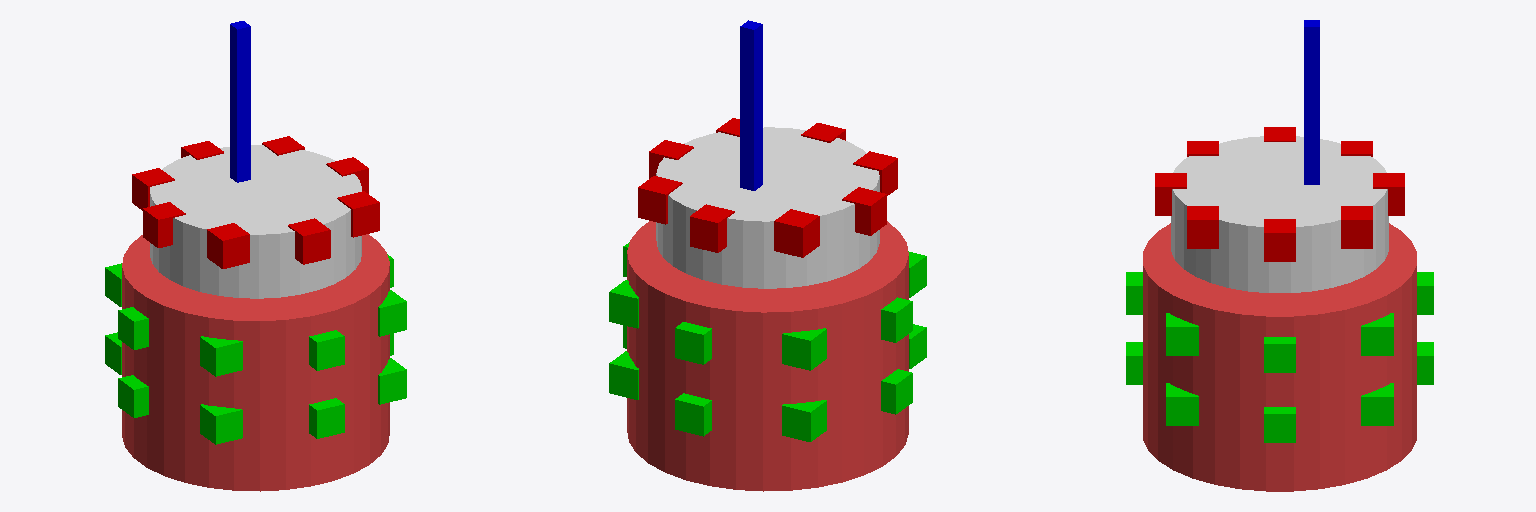
The robot description file, URDF, robot "random_bottle":
<?xml version="1.0"?>
<robot name="random_bottle">

  <!-- Define the cap link -->
  <link name="link1">
    <visual>
      <geometry>
        <mesh filename="cap.obj" scale="1.0 1.0 1.0"/>
      </geometry>
       <material name="white">
        <color rgba=".9 .9 .9 1"/>
      </material>

    </visual>
    <collision>
      <geometry>
        <mesh filename="cap.obj" scale="1.0 1.0 1.0"/>
      </geometry>
    </collision>

    <inertial>
      <mass value="0.014562240797476336"/> <!-- You can adjust the mass as needed -->
      <origin rpy="0 0 0" xyz="0 0 0"/>
      <inertia ixx="4.756870157828276e-06" ixy="0.0" ixz="0.0" iyy="4.756870157828276e-06" iyz="0.0" izz="8.2947460744877e-06"/>
    </inertial>
  </link>

    <link name="l10">
    <visual>
      <geometry>
        <box size="0.01 0.01 0.01"/>
      </geometry>

      <material name="red">
        <color rgba="0.9 0.0 0.0 1"/>
      </material>

    </visual>

    <inertial>
      <mass value="0.0001"/> <!-- You can adjust the mass as needed -->
      <origin rpy="0 0 0" xyz="0 0 -0.00"/> <!-- Offset by half of link1's height + 0.03m for the margin -->
      <inertia ixx="0.000000003" ixy="0.0" ixz="0.0" iyy="0.0000003" iyz="0.0" izz="0.00000003"/>
    </inertial>

  </link>
  <link name="l11">
    <visual>
      <geometry>
        <box size="0.01 0.01 0.01"/>
      </geometry>

      <material name="red">
        <color rgba="0.9 0.0 0.0 1"/>
      </material>

    </visual>

    <inertial>
      <mass value="0.0001"/> <!-- You can adjust the mass as needed -->
      <origin rpy="0 0 0" xyz="0 0 -0.00"/> <!-- Offset by half of link1's height + 0.03m for the margin -->
      <inertia ixx="0.000000003" ixy="0.0" ixz="0.0" iyy="0.0000003" iyz="0.0" izz="0.00000003"/>
    </inertial>

  </link>
  <link name="l12">
    <visual>
      <geometry>
        <box size="0.01 0.01 0.01"/>
      </geometry>

      <material name="red">
        <color rgba="0.9 0.0 0.0 1"/>
      </material>

    </visual>

    <inertial>
      <mass value="0.0001"/> <!-- You can adjust the mass as needed -->
      <origin rpy="0 0 0" xyz="0 0 -0.00"/> <!-- Offset by half of link1's height + 0.03m for the margin -->
      <inertia ixx="0.000000003" ixy="0.0" ixz="0.0" iyy="0.0000003" iyz="0.0" izz="0.00000003"/>
    </inertial>

  </link>
  <link name="l13">
    <visual>
      <geometry>
        <box size="0.01 0.01 0.01"/>
      </geometry>

      <material name="red">
        <color rgba="0.9 0.0 0.0 1"/>
      </material>

    </visual>

    <inertial>
      <mass value="0.0001"/> <!-- You can adjust the mass as needed -->
      <origin rpy="0 0 0" xyz="0 0 -0.00"/> <!-- Offset by half of link1's height + 0.03m for the margin -->
      <inertia ixx="0.000000003" ixy="0.0" ixz="0.0" iyy="0.0000003" iyz="0.0" izz="0.00000003"/>
    </inertial>

  </link>
  <link name="l10b">
    <visual>
      <geometry>
        <box size="0.01 0.01 0.01"/>
      </geometry>

      <material name="red">
        <color rgba="0.9 0.0 0.0 1"/>
      </material>

    </visual>

    <inertial>
      <mass value="0.0001"/> <!-- You can adjust the mass as needed -->
      <origin rpy="0 0 0" xyz="0 0 -0.00"/> <!-- Offset by half of link1's height + 0.03m for the margin -->
      <inertia ixx="0.000000003" ixy="0.0" ixz="0.0" iyy="0.0000003" iyz="0.0" izz="0.00000003"/>
    </inertial>

  </link>
  <link name="l11b">
    <visual>
      <geometry>
        <box size="0.01 0.01 0.01"/>
      </geometry>

      <material name="red">
        <color rgba="0.9 0.0 0.0 1"/>
      </material>

    </visual>

    <inertial>
      <mass value="0.0001"/> <!-- You can adjust the mass as needed -->
      <origin rpy="0 0 0" xyz="0 0 -0.00"/> <!-- Offset by half of link1's height + 0.03m for the margin -->
      <inertia ixx="0.000000003" ixy="0.0" ixz="0.0" iyy="0.0000003" iyz="0.0" izz="0.00000003"/>
    </inertial>

  </link>
  <link name="l12b">
    <visual>
      <geometry>
        <box size="0.01 0.01 0.01"/>
      </geometry>

      <material name="red">
        <color rgba="0.9 0.0 0.0 1"/>
      </material>

    </visual>

    <inertial>
      <mass value="0.0001"/> <!-- You can adjust the mass as needed -->
      <origin rpy="0 0 0" xyz="0 0 -0.00"/> <!-- Offset by half of link1's height + 0.03m for the margin -->
      <inertia ixx="0.000000003" ixy="0.0" ixz="0.0" iyy="0.0000003" iyz="0.0" izz="0.00000003"/>
    </inertial>

  </link>
  <link name="l13b">
    <visual>
      <geometry>
        <box size="0.01 0.01 0.01"/>
      </geometry>

      <material name="red">
        <color rgba="0.9 0.0 0.0 1"/>
      </material>

    </visual>

    <inertial>
      <mass value="0.0001"/> <!-- You can adjust the mass as needed -->
      <origin rpy="0 0 0" xyz="0 0 -0.00"/> <!-- Offset by half of link1's height + 0.03m for the margin -->
      <inertia ixx="0.000000003" ixy="0.0" ixz="0.0" iyy="0.0000003" iyz="0.0" izz="0.00000003"/>
    </inertial>

  </link>
  <link name="l20">
    <visual>
      <geometry>
        <box size="0.01 0.01 0.01"/>
      </geometry>

      <material name="red">
        <color rgba="0.0 0.9 0.0 1"/>
      </material>

    </visual>

    <inertial>
      <mass value="0.0001"/> <!-- You can adjust the mass as needed -->
      <origin rpy="0 0 0" xyz="0 0 -0.00"/> <!-- Offset by half of link1's height + 0.03m for the margin -->
      <inertia ixx="0.000000003" ixy="0.0" ixz="0.0" iyy="0.0000003" iyz="0.0" izz="0.00000003"/>
    </inertial>

  </link>
  <link name="l21">
    <visual>
      <geometry>
        <box size="0.01 0.01 0.01"/>
      </geometry>

      <material name="red">
        <color rgba="0.0 0.9 0.0 1"/>
      </material>

    </visual>

    <inertial>
      <mass value="0.0001"/> <!-- You can adjust the mass as needed -->
      <origin rpy="0 0 0" xyz="0 0 -0.00"/> <!-- Offset by half of link1's height + 0.03m for the margin -->
      <inertia ixx="0.000000003" ixy="0.0" ixz="0.0" iyy="0.0000003" iyz="0.0" izz="0.00000003"/>
    </inertial>

  </link>
  <link name="l22">
    <visual>
      <geometry>
        <box size="0.01 0.01 0.01"/>
      </geometry>

      <material name="red">
        <color rgba="0.0 0.9 0.0 1"/>
      </material>

    </visual>

    <inertial>
      <mass value="0.0001"/> <!-- You can adjust the mass as needed -->
      <origin rpy="0 0 0" xyz="0 0 -0.00"/> <!-- Offset by half of link1's height + 0.03m for the margin -->
      <inertia ixx="0.000000003" ixy="0.0" ixz="0.0" iyy="0.0000003" iyz="0.0" izz="0.00000003"/>
    </inertial>

  </link>
  <link name="l23">
    <visual>
      <geometry>
        <box size="0.01 0.01 0.01"/>
      </geometry>

      <material name="red">
        <color rgba="0.0 0.9 0.0 1"/>
      </material>

    </visual>

    <inertial>
      <mass value="0.0001"/> <!-- You can adjust the mass as needed -->
      <origin rpy="0 0 0" xyz="0 0 -0.00"/> <!-- Offset by half of link1's height + 0.03m for the margin -->
      <inertia ixx="0.000000003" ixy="0.0" ixz="0.0" iyy="0.0000003" iyz="0.0" izz="0.00000003"/>
    </inertial>

  </link>
  <link name="l24">
    <visual>
      <geometry>
        <box size="0.01 0.01 0.01"/>
      </geometry>

      <material name="red">
        <color rgba="0.0 0.9 0.0 1"/>
      </material>

    </visual>

    <inertial>
      <mass value="0.0001"/> <!-- You can adjust the mass as needed -->
      <origin rpy="0 0 0" xyz="0 0 -0.00"/> <!-- Offset by half of link1's height + 0.03m for the margin -->
      <inertia ixx="0.000000003" ixy="0.0" ixz="0.0" iyy="0.0000003" iyz="0.0" izz="0.00000003"/>
    </inertial>

  </link>
  <link name="l25">
    <visual>
      <geometry>
        <box size="0.01 0.01 0.01"/>
      </geometry>

      <material name="red">
        <color rgba="0.0 0.9 0.0 1"/>
      </material>

    </visual>

    <inertial>
      <mass value="0.0001"/> <!-- You can adjust the mass as needed -->
      <origin rpy="0 0 0" xyz="0 0 -0.00"/> <!-- Offset by half of link1's height + 0.03m for the margin -->
      <inertia ixx="0.000000003" ixy="0.0" ixz="0.0" iyy="0.0000003" iyz="0.0" izz="0.00000003"/>
    </inertial>

  </link>
  <link name="l26">
    <visual>
      <geometry>
        <box size="0.01 0.01 0.01"/>
      </geometry>

      <material name="red">
        <color rgba="0.0 0.9 0.0 1"/>
      </material>

    </visual>

    <inertial>
      <mass value="0.0001"/> <!-- You can adjust the mass as needed -->
      <origin rpy="0 0 0" xyz="0 0 -0.00"/> <!-- Offset by half of link1's height + 0.03m for the margin -->
      <inertia ixx="0.000000003" ixy="0.0" ixz="0.0" iyy="0.0000003" iyz="0.0" izz="0.00000003"/>
    </inertial>

  </link>
  <link name="l27">
    <visual>
      <geometry>
        <box size="0.01 0.01 0.01"/>
      </geometry>

      <material name="red">
        <color rgba="0.0 0.9 0.0 1"/>
      </material>

    </visual>

    <inertial>
      <mass value="0.0001"/> <!-- You can adjust the mass as needed -->
      <origin rpy="0 0 0" xyz="0 0 -0.00"/> <!-- Offset by half of link1's height + 0.03m for the margin -->
      <inertia ixx="0.000000003" ixy="0.0" ixz="0.0" iyy="0.0000003" iyz="0.0" izz="0.00000003"/>
    </inertial>

  </link>
  <link name="l30">
    <visual>
      <geometry>
        <box size="0.01 0.01 0.01"/>
      </geometry>

      <material name="red">
        <color rgba="0.0 0.9 0.0 1"/>
      </material>

    </visual>

    <inertial>
      <mass value="0.0001"/> <!-- You can adjust the mass as needed -->
      <origin rpy="0 0 0" xyz="0 0 -0.00"/> <!-- Offset by half of link1's height + 0.03m for the margin -->
      <inertia ixx="0.000000003" ixy="0.0" ixz="0.0" iyy="0.0000003" iyz="0.0" izz="0.00000003"/>
    </inertial>

  </link>
  <link name="l31">
    <visual>
      <geometry>
        <box size="0.01 0.01 0.01"/>
      </geometry>

      <material name="red">
        <color rgba="0.0 0.9 0.0 1"/>
      </material>

    </visual>

    <inertial>
      <mass value="0.0001"/> <!-- You can adjust the mass as needed -->
      <origin rpy="0 0 0" xyz="0 0 -0.00"/> <!-- Offset by half of link1's height + 0.03m for the margin -->
      <inertia ixx="0.000000003" ixy="0.0" ixz="0.0" iyy="0.0000003" iyz="0.0" izz="0.00000003"/>
    </inertial>

  </link>
  <link name="l32">
    <visual>
      <geometry>
        <box size="0.01 0.01 0.01"/>
      </geometry>

      <material name="red">
        <color rgba="0.0 0.9 0.0 1"/>
      </material>

    </visual>

    <inertial>
      <mass value="0.0001"/> <!-- You can adjust the mass as needed -->
      <origin rpy="0 0 0" xyz="0 0 -0.00"/> <!-- Offset by half of link1's height + 0.03m for the margin -->
      <inertia ixx="0.000000003" ixy="0.0" ixz="0.0" iyy="0.0000003" iyz="0.0" izz="0.00000003"/>
    </inertial>

  </link>
  <link name="l33">
    <visual>
      <geometry>
        <box size="0.01 0.01 0.01"/>
      </geometry>

      <material name="red">
        <color rgba="0.0 0.9 0.0 1"/>
      </material>

    </visual>

    <inertial>
      <mass value="0.0001"/> <!-- You can adjust the mass as needed -->
      <origin rpy="0 0 0" xyz="0 0 -0.00"/> <!-- Offset by half of link1's height + 0.03m for the margin -->
      <inertia ixx="0.000000003" ixy="0.0" ixz="0.0" iyy="0.0000003" iyz="0.0" izz="0.00000003"/>
    </inertial>

  </link>
  <link name="l34">
    <visual>
      <geometry>
        <box size="0.01 0.01 0.01"/>
      </geometry>

      <material name="red">
        <color rgba="0.0 0.9 0.0 1"/>
      </material>

    </visual>

    <inertial>
      <mass value="0.0001"/> <!-- You can adjust the mass as needed -->
      <origin rpy="0 0 0" xyz="0 0 -0.00"/> <!-- Offset by half of link1's height + 0.03m for the margin -->
      <inertia ixx="0.000000003" ixy="0.0" ixz="0.0" iyy="0.0000003" iyz="0.0" izz="0.00000003"/>
    </inertial>

  </link>
  <link name="l35">
    <visual>
      <geometry>
        <box size="0.01 0.01 0.01"/>
      </geometry>

      <material name="red">
        <color rgba="0.0 0.9 0.0 1"/>
      </material>

    </visual>

    <inertial>
      <mass value="0.0001"/> <!-- You can adjust the mass as needed -->
      <origin rpy="0 0 0" xyz="0 0 -0.00"/> <!-- Offset by half of link1's height + 0.03m for the margin -->
      <inertia ixx="0.000000003" ixy="0.0" ixz="0.0" iyy="0.0000003" iyz="0.0" izz="0.00000003"/>
    </inertial>

  </link>
  <link name="l36">
    <visual>
      <geometry>
        <box size="0.01 0.01 0.01"/>
      </geometry>

      <material name="red">
        <color rgba="0.0 0.9 0.0 1"/>
      </material>

    </visual>

    <inertial>
      <mass value="0.0001"/> <!-- You can adjust the mass as needed -->
      <origin rpy="0 0 0" xyz="0 0 -0.00"/> <!-- Offset by half of link1's height + 0.03m for the margin -->
      <inertia ixx="0.000000003" ixy="0.0" ixz="0.0" iyy="0.0000003" iyz="0.0" izz="0.00000003"/>
    </inertial>

  </link>
  <link name="l37">
    <visual>
      <geometry>
        <box size="0.01 0.01 0.01"/>
      </geometry>

      <material name="red">
        <color rgba="0.0 0.9 0.0 1"/>
      </material>

    </visual>

    <inertial>
      <mass value="0.0001"/> <!-- You can adjust the mass as needed -->
      <origin rpy="0 0 0" xyz="0 0 -0.00"/> <!-- Offset by half of link1's height + 0.03m for the margin -->
      <inertia ixx="0.000000003" ixy="0.0" ixz="0.0" iyy="0.0000003" iyz="0.0" izz="0.00000003"/>
    </inertial>

  </link>


  <link name="hint">
    <visual>
      <geometry>
        <box size="0.005 0.005 0.07"/> <!-- 9cm x 9cm x 6cm -->
      </geometry>
       <material name="blue">
        <color rgba=".0 .0 .9 1"/>
      </material>
    </visual>

    <inertial>
      <mass value="0.0001"/> <!-- You can adjust the mass as needed -->
      <origin rpy="0 0 0" xyz="0 0 -0.00"/> <!-- Offset by half of link1's height + 0.03m for the margin -->
      <inertia ixx="0.000000003" ixy="0.0" ixz="0.0" iyy="0.0000003" iyz="0.0" izz="0.00000003"/>
    </inertial>


  </link>

  <!-- Define the base link -->
  <link name="link2">
    <visual>
      <geometry>
        <mesh filename="base.obj" scale="1.0 1.0 1.0"/>
      </geometry>
      <material name="red">
        <color rgba=".9 .3 .3 1"/>
      </material>

    </visual>

    <collision>
      <geometry>
        <mesh filename="base.obj" scale="1.0 1.0 1.0"/>
      </geometry>
    </collision>

    <inertial>
      <mass value="0.053506517893123835"/> <!-- You can adjust the mass as needed -->
      <origin rpy="0 0 0" xyz="0 0 -0.00"/> <!-- Offset by half of link1's height + 0.03m for the margin -->
      <inertia ixx="4.0150970214219024e-05" ixy="0.0" ixz="0.0" iyy="4.0150970214219024e-05" iyz="0.0" izz="4.856456113055901e-05"/>
    </inertial>
  </link>



  <link name="brake">
   <visual>
      <geometry>
        <box size="0.02 0.02 0.005"/> <!-- 6cm x 6cm x 2cm -->
      </geometry>
       <material name="gray">
        <color rgba=".5 .5 .5 1"/>
      </material>

    </visual>
    <collision>
      <geometry>
        <box size="0.02 0.02 0.005"/> <!-- 6cm x 6cm x 2cm -->
      </geometry>
    </collision>

    <inertial>
      <mass value="0.005"/> <!-- You can adjust the mass as needed -->
      <origin rpy="0 0 0" xyz="0 0 0"/>
      <inertia ixx="0.00018" ixy="0.0" ixz="0.0" iyy="0.00018" iyz="0.0" izz="0.00018"/>
    </inertial>
  </link>

  <!-- Define the joint connecting link1 and link2 as a revolute joint along z-axis -->
  <joint name="fix_joint" type="fixed">
    <parent link="link1"/>
    <child link="hint"/>
    <origin rpy="0 0 0" xyz="0 0.01 0.03"/> <!-- Offset by half of link1's height for the margin -->
    <axis xyz="0 0 1"/>
  </joint>

  <!-- Define the joint connecting link1 and link2 as a revolute joint along z-axis -->
  <joint name="brake_joint" type="prismatic">
    <parent link="link2"/>
    <child link="brake"/>
    <origin rpy="0 0 0" xyz="0 0 0.05223931028031547"/> <!-- Offset by half of link1's height for the margin -->
    <axis xyz="0 0 1"/>
    <limit lower="-0.02" upper="0.02" />
    <!-- <dynamics damping="0.0" friction="0.0"/> -->
  </joint>


  <joint name="b_joint" type="revolute">
    <parent link="link2"/>
    <child link="link1"/>
    <origin rpy="0 0 0" xyz="0 0 0.04482825287319958"/> <!-- Offset by half of link1's height for the margin -->
    <axis xyz="0 0 1"/>
    <!-- No joint limits -->
    <dynamics damping="0.0" friction="0.0"/>
  </joint>


  <!-- marker -->
    <joint name="jl10" type="fixed">
    <parent link="link1"/>
    <child link="l10"/>
    <origin rpy="0 0 0" xyz="0.0 0.03375222764692314 0.006723317222134765"/> <!-- Offset by half of link1's height for the margin -->
    <axis xyz="0 0 1"/>
  </joint>
  <joint name="jl11" type="fixed">
    <parent link="link1"/>
    <child link="l11"/>
    <origin rpy="0 0 0" xyz="0.023866428729542172 0.023866429369040668 0.006723317222134765"/> <!-- Offset by half of link1's height for the margin -->
    <axis xyz="0 0 1"/>
  </joint>
  <joint name="jl12" type="fixed">
    <parent link="link1"/>
    <child link="l12"/>
    <origin rpy="0 0 0" xyz="0.03375222764692313 9.043874493136499e-10 0.006723317222134765"/> <!-- Offset by half of link1's height for the margin -->
    <axis xyz="0 0 1"/>
  </joint>
  <joint name="jl13" type="fixed">
    <parent link="link1"/>
    <child link="l13"/>
    <origin rpy="0 0 0" xyz="0.023866430008539143 -0.02386642809004366 0.006723317222134765"/> <!-- Offset by half of link1's height for the margin -->
    <axis xyz="0 0 1"/>
  </joint>
  <joint name="jl10b" type="fixed">
    <parent link="link1"/>
    <child link="l10b"/>
    <origin rpy="0 0 0" xyz="1.8087748986272992e-09 -0.033752227646923094 0.006723317222134765"/> <!-- Offset by half of link1's height for the margin -->
    <axis xyz="0 0 1"/>
  </joint>
  <joint name="jl11b" type="fixed">
    <parent link="link1"/>
    <child link="l11b"/>
    <origin rpy="0 0 0" xyz="-0.02386642745054512 -0.02386643064803762 0.006723317222134765"/> <!-- Offset by half of link1's height for the margin -->
    <axis xyz="0 0 1"/>
  </joint>
  <joint name="jl12b" type="fixed">
    <parent link="link1"/>
    <child link="l12b"/>
    <origin rpy="0 0 0" xyz="-0.03375222764692303 -2.713162332951947e-09 0.006723317222134765"/> <!-- Offset by half of link1's height for the margin -->
    <axis xyz="0 0 1"/>
  </joint>
  <joint name="jl13b" type="fixed">
    <parent link="link1"/>
    <child link="l13b"/>
    <origin rpy="0 0 0" xyz="-0.023866431287536054 0.02386642681104658 0.006723317222134765"/> <!-- Offset by half of link1's height for the margin -->
    <axis xyz="0 0 1"/>
  </joint>
  <joint name="jl20" type="fixed">
    <parent link="link2"/>
    <child link="l20"/>
    <origin rpy="0 0 0" xyz="0.0 0.042606061278056155 0.017896951723919752"/> <!-- Offset by half of link1's height for the margin -->
    <axis xyz="0 0 1"/>
  </joint>
  <joint name="jl21" type="fixed">
    <parent link="link2"/>
    <child link="l21"/>
    <origin rpy="0 0 0" xyz="0.030127034445737697 0.030127035252988477 0.017896951723919752"/> <!-- Offset by half of link1's height for the margin -->
    <axis xyz="0 0 1"/>
  </joint>
  <joint name="jl22" type="fixed">
    <parent link="link2"/>
    <child link="l22"/>
    <origin rpy="0 0 0" xyz="0.04260606127805614 1.1416250058409076e-09 0.017896951723919752"/> <!-- Offset by half of link1's height for the margin -->
    <axis xyz="0 0 1"/>
  </joint>
  <joint name="jl23" type="fixed">
    <parent link="link2"/>
    <child link="l23"/>
    <origin rpy="0 0 0" xyz="0.03012703606023923 -0.030127033638486893 0.017896951723919752"/> <!-- Offset by half of link1's height for the margin -->
    <axis xyz="0 0 1"/>
  </joint>
  <joint name="jl24" type="fixed">
    <parent link="link2"/>
    <child link="l24"/>
    <origin rpy="0 0 0" xyz="2.2832500116818143e-09 -0.04260606127805609 0.017896951723919752"/> <!-- Offset by half of link1's height for the margin -->
    <axis xyz="0 0 1"/>
  </joint>
  <joint name="jl25" type="fixed">
    <parent link="link2"/>
    <child link="l25"/>
    <origin rpy="0 0 0" xyz="-0.030127032831236057 -0.030127036867489985 0.017896951723919752"/> <!-- Offset by half of link1's height for the margin -->
    <axis xyz="0 0 1"/>
  </joint>
  <joint name="jl26" type="fixed">
    <parent link="link2"/>
    <child link="l26"/>
    <origin rpy="0 0 0" xyz="-0.042606061278056016 -3.4248749986018273e-09 0.017896951723919752"/> <!-- Offset by half of link1's height for the margin -->
    <axis xyz="0 0 1"/>
  </joint>
  <joint name="jl27" type="fixed">
    <parent link="link2"/>
    <child link="l27"/>
    <origin rpy="0 0 0" xyz="-0.03012703767474069 0.03012703202398522 0.017896951723919752"/> <!-- Offset by half of link1's height for the margin -->
    <axis xyz="0 0 1"/>
  </joint>
  <joint name="jl30" type="fixed">
    <parent link="link2"/>
    <child link="l30"/>
    <origin rpy="0 0 0" xyz="0.0 0.042606061278056155 -0.0059656505746399175"/> <!-- Offset by half of link1's height for the margin -->
    <axis xyz="0 0 1"/>
  </joint>
  <joint name="jl31" type="fixed">
    <parent link="link2"/>
    <child link="l31"/>
    <origin rpy="0 0 0" xyz="0.030127034445737697 0.030127035252988477 -0.0059656505746399175"/> <!-- Offset by half of link1's height for the margin -->
    <axis xyz="0 0 1"/>
  </joint>
  <joint name="jl32" type="fixed">
    <parent link="link2"/>
    <child link="l32"/>
    <origin rpy="0 0 0" xyz="0.04260606127805614 1.1416250058409076e-09 -0.0059656505746399175"/> <!-- Offset by half of link1's height for the margin -->
    <axis xyz="0 0 1"/>
  </joint>
  <joint name="jl33" type="fixed">
    <parent link="link2"/>
    <child link="l33"/>
    <origin rpy="0 0 0" xyz="0.03012703606023923 -0.030127033638486893 -0.0059656505746399175"/> <!-- Offset by half of link1's height for the margin -->
    <axis xyz="0 0 1"/>
  </joint>
  <joint name="jl34" type="fixed">
    <parent link="link2"/>
    <child link="l34"/>
    <origin rpy="0 0 0" xyz="2.2832500116818143e-09 -0.04260606127805609 -0.0059656505746399175"/> <!-- Offset by half of link1's height for the margin -->
    <axis xyz="0 0 1"/>
  </joint>
  <joint name="jl35" type="fixed">
    <parent link="link2"/>
    <child link="l35"/>
    <origin rpy="0 0 0" xyz="-0.030127032831236057 -0.030127036867489985 -0.0059656505746399175"/> <!-- Offset by half of link1's height for the margin -->
    <axis xyz="0 0 1"/>
  </joint>
  <joint name="jl36" type="fixed">
    <parent link="link2"/>
    <child link="l36"/>
    <origin rpy="0 0 0" xyz="-0.042606061278056016 -3.4248749986018273e-09 -0.0059656505746399175"/> <!-- Offset by half of link1's height for the margin -->
    <axis xyz="0 0 1"/>
  </joint>
  <joint name="jl37" type="fixed">
    <parent link="link2"/>
    <child link="l37"/>
    <origin rpy="0 0 0" xyz="-0.03012703767474069 0.03012703202398522 -0.0059656505746399175"/> <!-- Offset by half of link1's height for the margin -->
    <axis xyz="0 0 1"/>
  </joint>



</robot>

--- Facts derived from the render (not from the file) ---
The picture shows the robot from 3 angles, left to right: view 1: azimuth 30°, elevation 25°; view 2: azimuth 150°, elevation 25°; view 3: azimuth 270°, elevation 25°; orthographic projection.
Robot: random_bottle — 28 links, 27 joints (1 revolute, 1 prismatic, 25 fixed); root link link2; default pose: every joint at zero.
Links seen in each view (by area): view 1: link2, link1, hint, l11b, l10b, l25, l35, l12b, l13, l34, l24, l26 (+8 smaller); view 2: link2, link1, hint, l13b, l37, l27, l10, l12b, l11, l30, l20, l26 (+8 smaller); view 3: link2, link1, hint, l11, l12, l13, l21, l23, l31, l33, l22, l32 (+6 smaller).
Boxes of the visible links, <box> form: link2: <box>122,234,389,491</box>; link1: <box>150,145,361,298</box>; hint: <box>230,21,250,182</box>; l11b: <box>207,223,249,268</box>; l10b: <box>288,218,330,264</box>; l25: <box>200,336,242,376</box>; l35: <box>200,404,242,444</box>; l12b: <box>143,202,185,247</box>; l13: <box>337,191,379,237</box>; l34: <box>309,398,344,438</box>; l24: <box>309,330,344,370</box>; l26: <box>118,307,148,349</box>; link2: <box>627,221,908,491</box>; link1: <box>656,127,879,288</box>; hint: <box>740,20,762,190</box>; l13b: <box>774,209,819,257</box>; l37: <box>782,400,826,441</box>; l27: <box>782,328,826,370</box>; l10: <box>690,204,734,252</box>; l12b: <box>842,187,886,235</box>; l11: <box>638,176,682,224</box>; l30: <box>675,393,711,436</box>; l20: <box>675,322,711,364</box>; l26: <box>881,297,912,342</box>; link2: <box>1143,223,1416,491</box>; link1: <box>1171,136,1388,292</box>; hint: <box>1304,20,1319,184</box>; l11: <box>1341,206,1372,248</box>; l12: <box>1264,219,1295,261</box>; l13: <box>1187,206,1218,248</box>; l21: <box>1361,313,1393,355</box>; l23: <box>1166,313,1198,355</box>; l31: <box>1361,383,1393,425</box>; l33: <box>1166,383,1198,425</box>; l22: <box>1264,337,1295,372</box>; l32: <box>1264,407,1295,442</box>.
Size in the robot's own frame: 0.0952 by 0.0952 by 0.1397 metres.
Meshes: 2 distinct files referenced, 2 mesh visuals loaded (2 OBJ).
